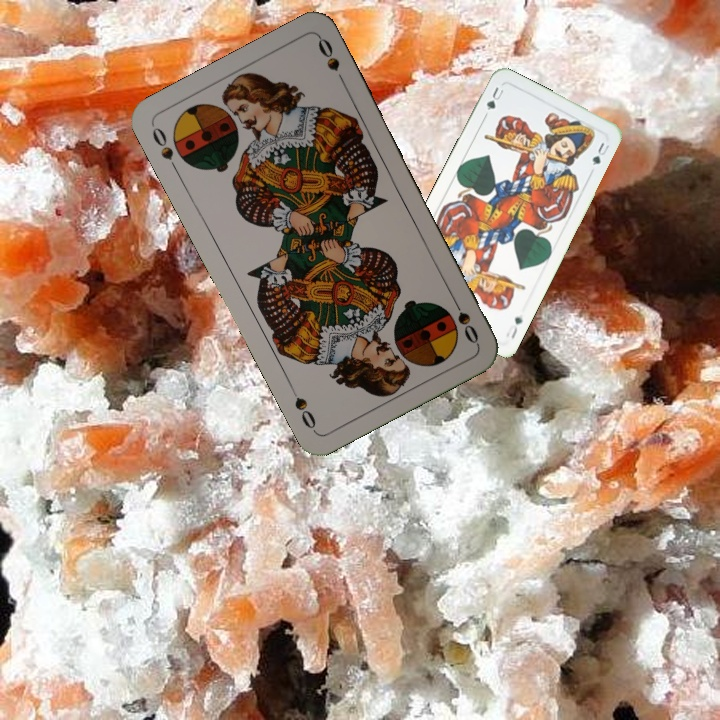GU: (482, 83, 506, 113), (502, 313, 525, 342)
SO: (447, 291, 481, 347), (148, 123, 182, 176)
